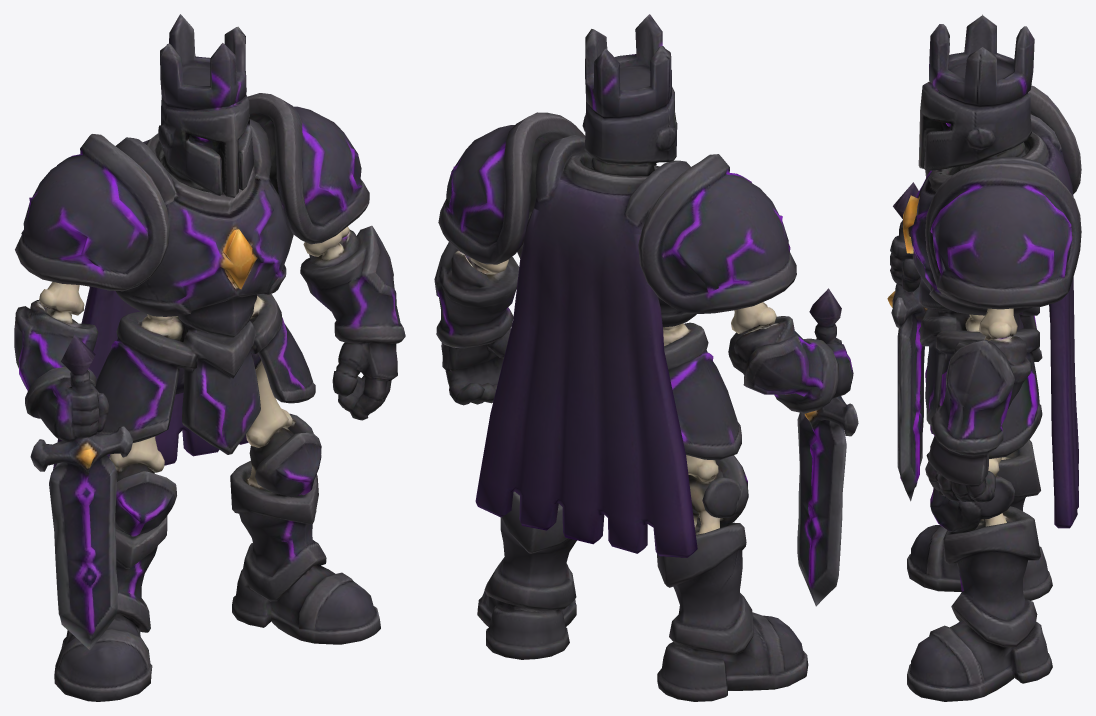
File: SkeletonKnight.glb
3 views of the same model, side by side, from view 1: azimuth 30°, elevation 25°; view 2: azimuth 150°, elevation 25°; view 3: azimuth 270°, elevation 25° (orthographic). The views are drawn at different scales.
Visible parts, largest first — view 1: tripo_node_8e643ed8-7e46-4e3f-bd9b-1305baf484f6; view 2: tripo_node_8e643ed8-7e46-4e3f-bd9b-1305baf484f6; view 3: tripo_node_8e643ed8-7e46-4e3f-bd9b-1305baf484f6.
Boxes of the visible parts, x1,y1,x2,y2 form: tripo_node_8e643ed8-7e46-4e3f-bd9b-1305baf484f6: (14,14,405,701); tripo_node_8e643ed8-7e46-4e3f-bd9b-1305baf484f6: (434,14,858,701); tripo_node_8e643ed8-7e46-4e3f-bd9b-1305baf484f6: (887,14,1081,701).
Bounding box in the file's own units: 0.6486 × 0.9776 × 0.285.
Materials: 1 (1 with a texture image).
